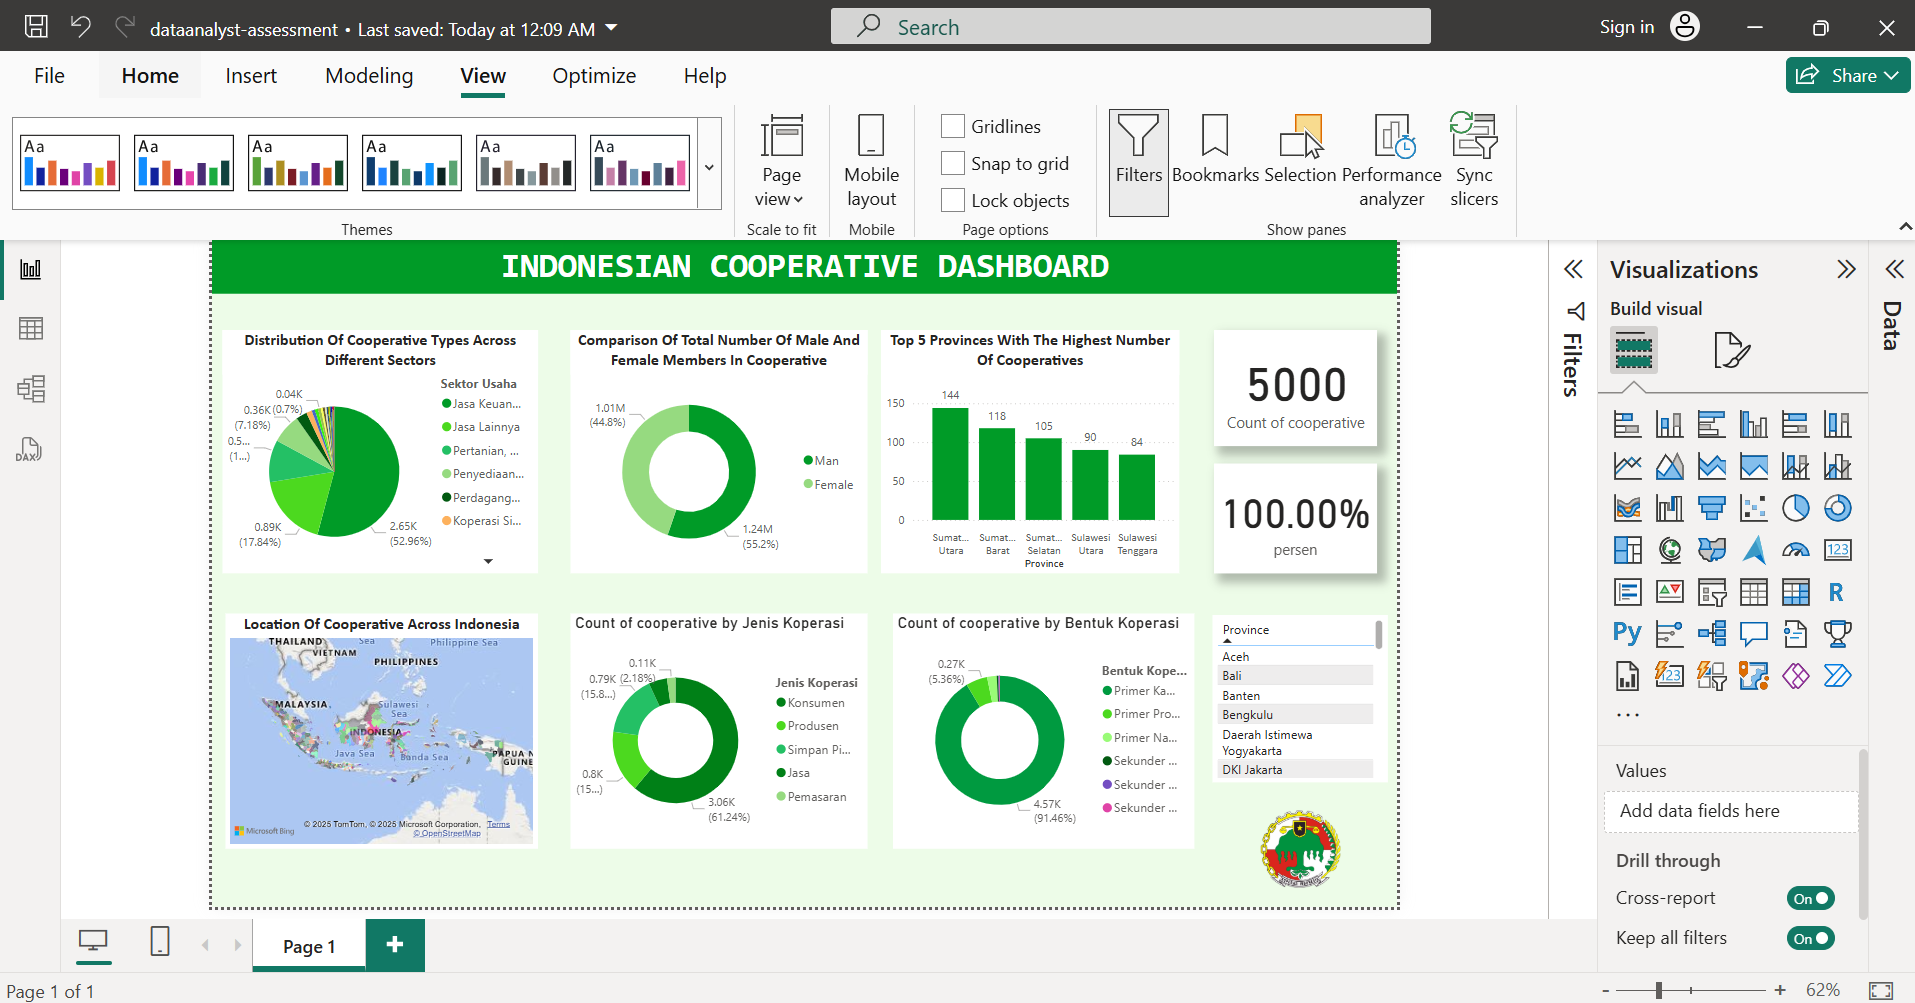

The page's visual inventory and layout, read from the dashboard file:
{"tool":"powerbi","page":{"name":"Page 1","canvas":[1280,720],"ordinal":0},"visuals":[{"type":"textbox","box":[0,0,1280,58],"z":0},{"type":"image","box":[1121.7,610.9,106.5,93.5],"z":1000},{"type":"pieChart","title":"Distribution Of Cooperative Types Across Different Sectors","fields":{"Category":["Sheet1.Sektor Usaha"],"Y":["Sheet1.Kelompok Koperasi"]},"box":[11.9,96.6,340.7,262.7],"z":2000},{"type":"donutChart","title":"Comparison Of Total Number Of Male And Female Members In Cooperative","fields":{"Y":["Sheet1.Jumlah Anggota Pria","Sheet1.Jumlah Anggota Wanita"]},"box":[386.4,96.6,320.3,262.7],"z":3000},{"type":"filledMap","title":"Location Of Cooperative Across Indonesia","fields":{"Category":["Sheet1.Kab/Kota Detail"],"Series":["Sheet1.lat_long"]},"box":[15.3,403.4,337.3,254.2],"z":4000},{"type":"columnChart","title":"Top 5 Provinces With The Highest Number Of Cooperatives","fields":{"Category":["Sheet1.Provinsi"],"Y":["Sheet1.Provinsi"]},"box":[722,96.6,322,262.7],"z":5000},{"type":"card","fields":{"Values":["Sheet1.Koperasi"]},"box":[1081.4,96.6,176.3,125.4],"z":6000},{"type":"donutChart","fields":{"Category":["Sheet1.Jenis Koperasi"],"Y":["Sheet1.cooperative"]},"box":[386.4,403.4,320.3,254.2],"z":7000},{"type":"donutChart","fields":{"Category":["Sheet1.Bentuk Koperasi"],"Y":["Sheet1.cooperative"]},"box":[735.6,403.4,325.4,254.2],"z":8000},{"type":"tableEx","fields":{"Values":["Sheet1.Province"]},"box":[1080.4,404.3,189.1,180.4],"z":10000},{"type":"card","fields":{"Values":["Sheet1.persen"]},"box":[1081.4,240.7,176.3,118.6],"z":10002}]}

Visuals, with their boxes on the page's 1280x720 design canvas (x1, y1, x2, y2). These are canvas units, not pixel positions in the 1915x1003 screenshot, which may show the page scaled, cropped or inside an application window:
textbox: [0, 0, 1280, 58]
image: [1122, 611, 1228, 704]
"Distribution Of Cooperative Types Across Different Sectors" pieChart: [12, 97, 353, 359]
"Comparison Of Total Number Of Male And Female Members In Cooperative" donutChart: [386, 97, 707, 359]
"Location Of Cooperative Across Indonesia" filledMap: [15, 403, 353, 658]
"Top 5 Provinces With The Highest Number Of Cooperatives" columnChart: [722, 97, 1044, 359]
card - Sheet1.Koperasi: [1081, 97, 1258, 222]
donutChart - Sheet1.Jenis Koperasi x Sheet1.cooperative: [386, 403, 707, 658]
donutChart - Sheet1.Bentuk Koperasi x Sheet1.cooperative: [736, 403, 1061, 658]
tableEx - Sheet1.Province: [1080, 404, 1270, 585]
card - Sheet1.persen: [1081, 241, 1258, 359]
